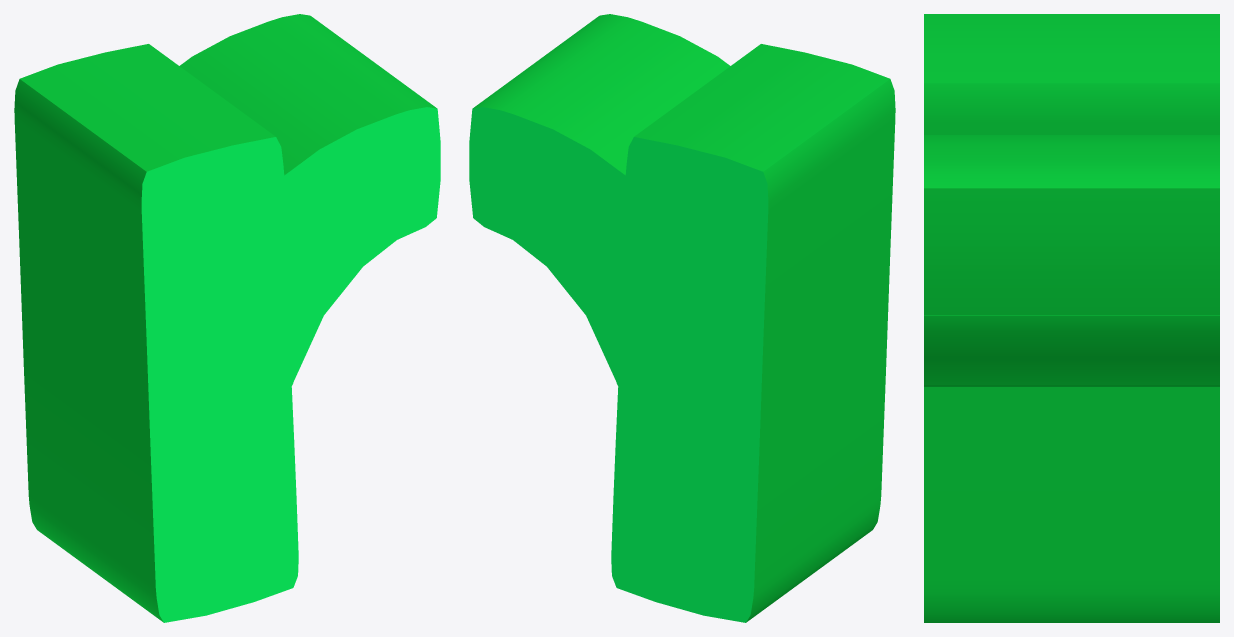
Rendered from R_Zyzol_Green.glb.
The picture shows the model from 3 angles, left to right: view 1: azimuth 30°, elevation 25°; view 2: azimuth 150°, elevation 25°; view 3: azimuth 270°, elevation 25°; orthographic projection. The views are drawn at different scales.
Parts seen in each view (by area): view 1: r_Zyzol_Green; view 2: r_Zyzol_Green; view 3: r_Zyzol_Green.
Boxes of the visible parts, left/top/right/bottom form: r_Zyzol_Green: left=14, top=14, right=440, bottom=622; r_Zyzol_Green: left=469, top=14, right=895, bottom=622; r_Zyzol_Green: left=924, top=14, right=1219, bottom=622.
Size of what is drawn, in the model's own units: 0.0611 by 0.0906 by 0.045.
Materials: 2 (2 with a texture image).
